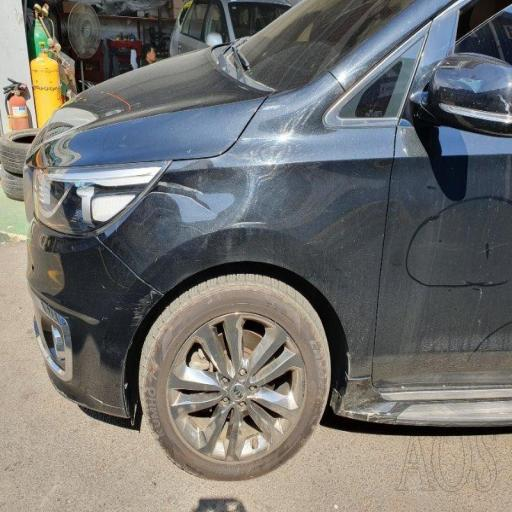broken: (147, 133, 271, 251), (82, 218, 156, 313)
dent: (162, 160, 257, 243)
